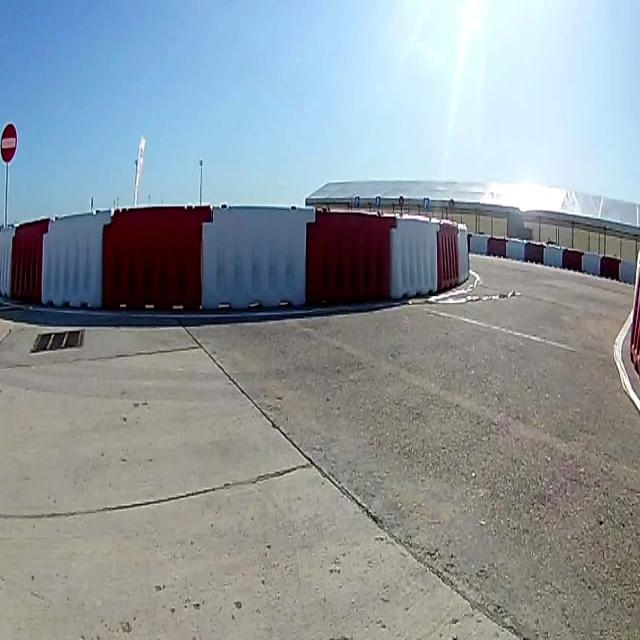girisyok: (0, 122, 18, 164)
